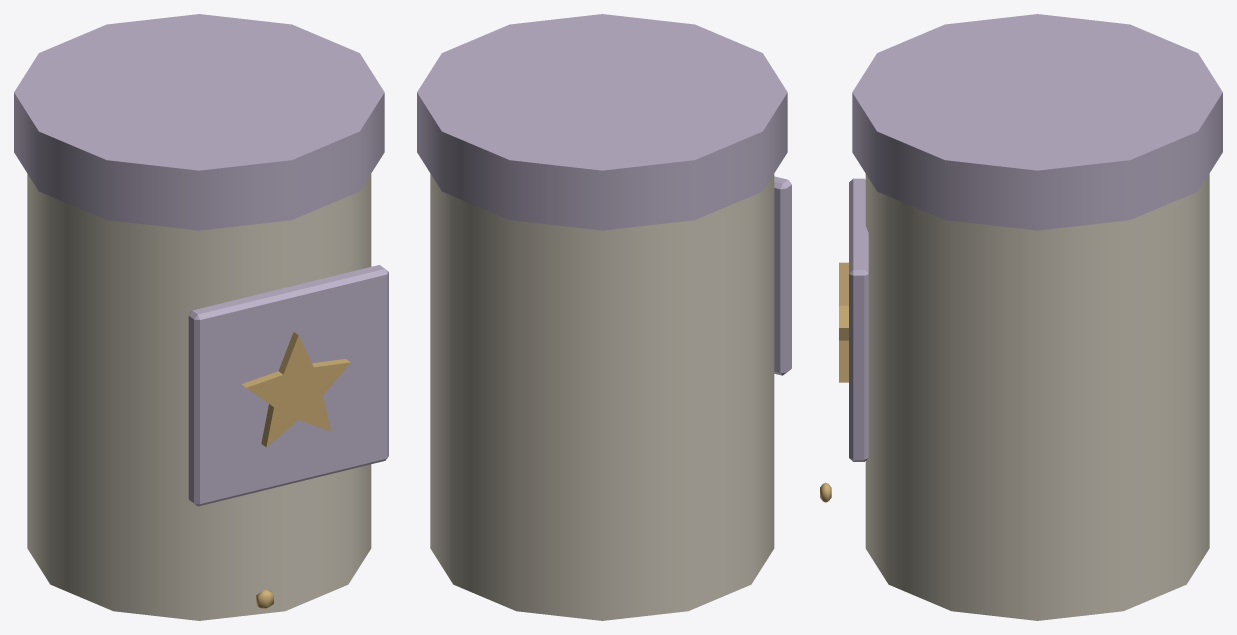
The picture shows the model from 3 angles, left to right: view 1: azimuth 30°, elevation 25°; view 2: azimuth 150°, elevation 25°; view 3: azimuth 270°, elevation 25°; orthographic projection.
Parts seen in each view (by area): view 1: g_s63; view 2: g_s63; view 3: g_s63.
Part boxes in pixels (x1=…): g_s63: x1=14, y1=14, x2=388, y2=620; g_s63: x1=417, y1=14, x2=791, y2=620; g_s63: x1=820, y1=14, x2=1222, y2=620.
Bounding box in the file's own units: 0.28 × 0.38 × 0.3043.
